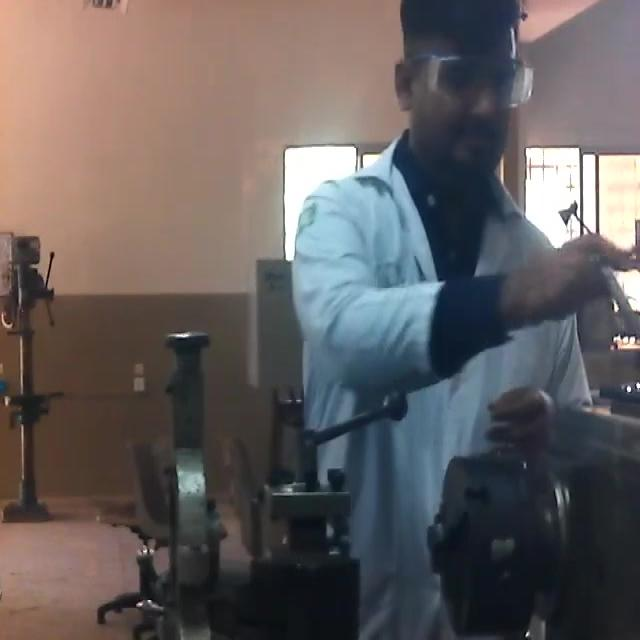googles: (425, 48, 534, 114)
labcoat: (290, 126, 597, 640)
